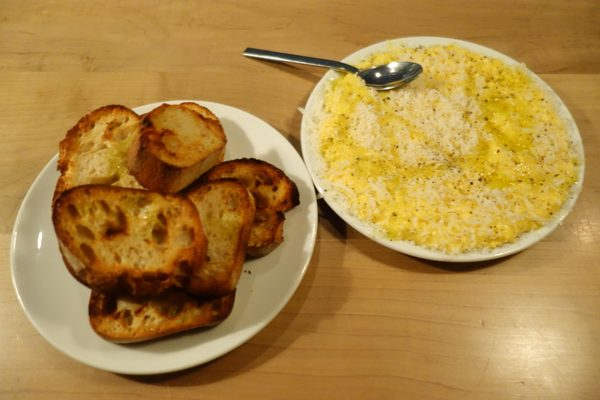salad: (242, 46, 422, 89)
soup: (52, 182, 254, 342)
sushi: (300, 40, 585, 264)
